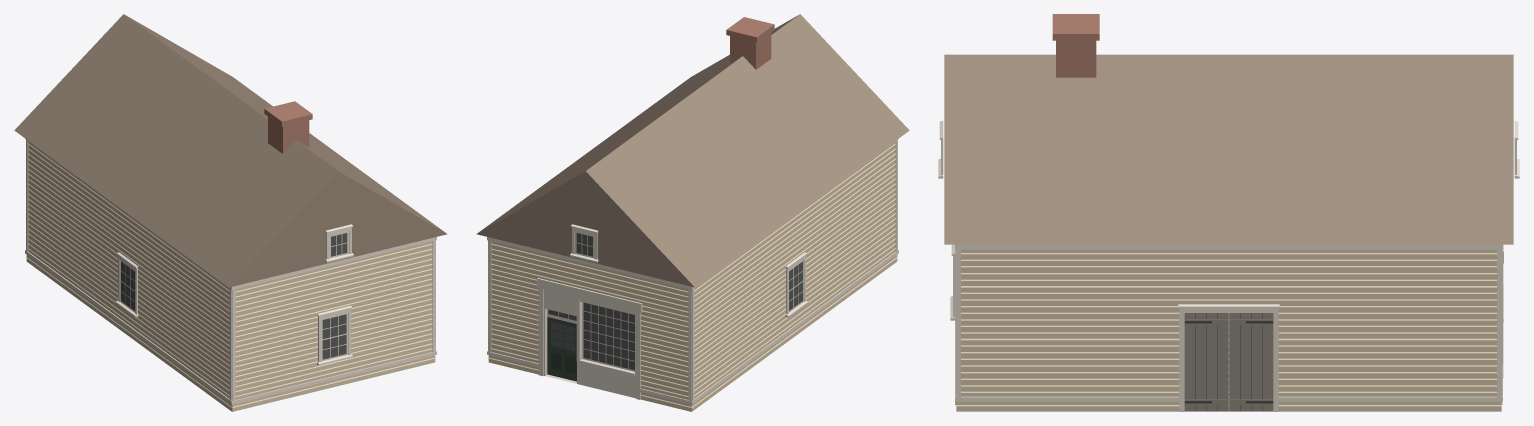
File: recon_1835_core_c2_036__inferred_1835.glb
The picture shows the model from 3 angles, left to right: view 1: azimuth 30°, elevation 25°; view 2: azimuth 150°, elevation 25°; view 3: azimuth 270°, elevation 25°; orthographic projection. The views are drawn at different scales.
Visible parts, largest first — view 1: recon_1835_core_c2_036__inferred_1835; view 2: recon_1835_core_c2_036__inferred_1835; view 3: recon_1835_core_c2_036__inferred_1835.
Boxes of the visible parts, left/top/right/bottom form: recon_1835_core_c2_036__inferred_1835: left=14, top=14, right=447, bottom=411; recon_1835_core_c2_036__inferred_1835: left=476, top=14, right=909, bottom=411; recon_1835_core_c2_036__inferred_1835: left=938, top=14, right=1519, bottom=411.
Bounding box in the file's own units: 6.99 × 7.41 × 12.13.
